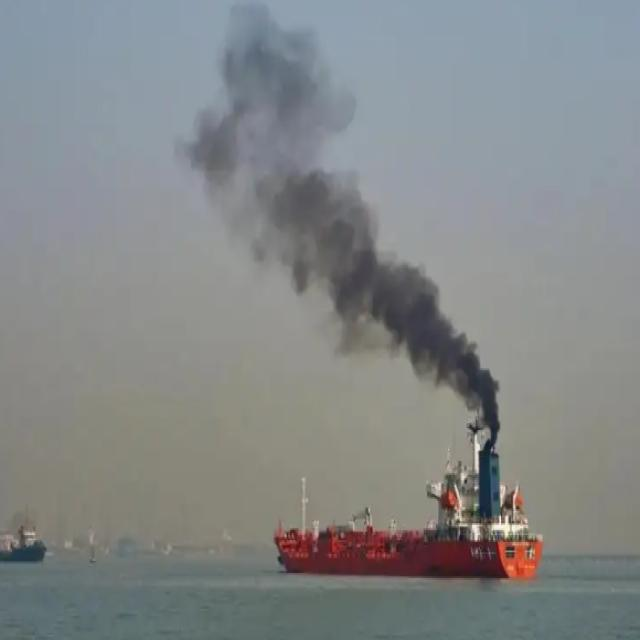cargoship: (270, 416, 540, 582), (0, 519, 46, 559)
